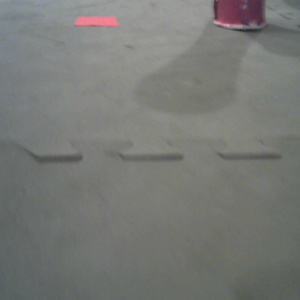right: (211, 1, 269, 33)
